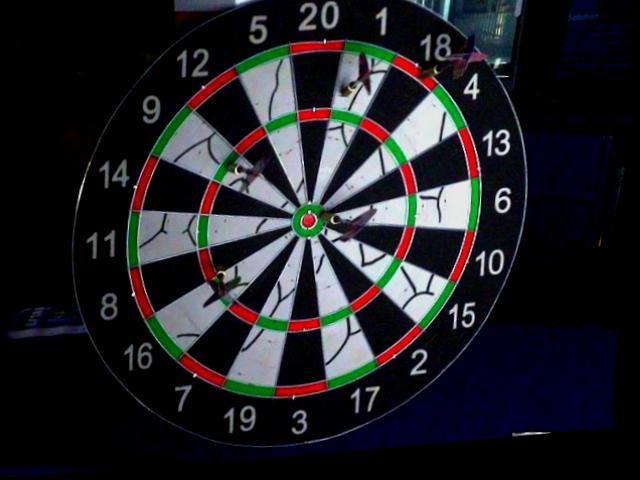bullseye: (290, 201, 331, 240)
double_18: (395, 54, 435, 91)
single_1: (339, 50, 387, 113)
single_8: (213, 225, 292, 272)
single_9: (216, 152, 237, 177)
